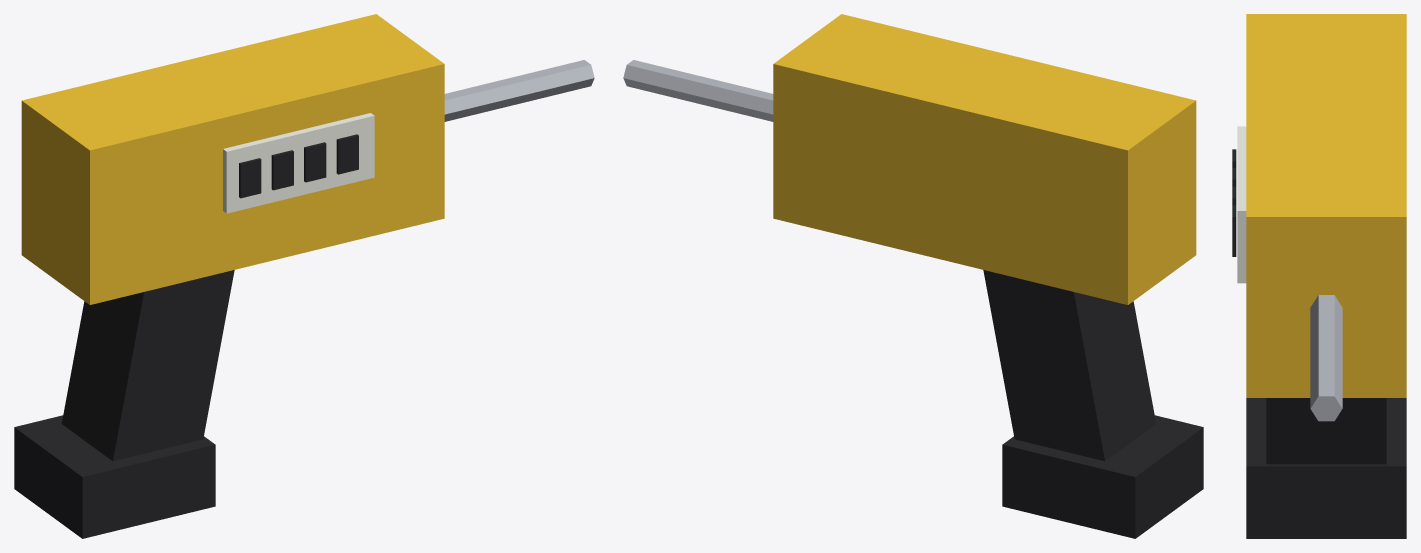
The model's file is garage_odometer_drill.glb.
3 views of the same model, side by side, from view 1: azimuth 30°, elevation 25°; view 2: azimuth 150°, elevation 25°; view 3: azimuth 270°, elevation 25° (orthographic). The views are drawn at different scales.
Visible parts, largest first — view 1: body_drill_yellow, grip_flash_black, battery_flash_black, counter_counter_white, bit_tool_chrome, digits_flash_black; view 2: body_drill_yellow, grip_flash_black, battery_flash_black, bit_tool_chrome; view 3: body_drill_yellow, battery_flash_black, grip_flash_black, bit_tool_chrome, counter_counter_white, digits_flash_black.
Part boxes in pixels (x1,y1,x2,y2): body_drill_yellow: [21, 14, 444, 304]; grip_flash_black: [61, 270, 234, 461]; battery_flash_black: [14, 415, 215, 538]; counter_counter_white: [223, 113, 374, 213]; bit_tool_chrome: [444, 60, 594, 121]; digits_flash_black: [239, 134, 358, 198]; body_drill_yellow: [773, 14, 1196, 304]; grip_flash_black: [983, 270, 1156, 461]; battery_flash_black: [1002, 415, 1203, 538]; bit_tool_chrome: [623, 60, 773, 121]; body_drill_yellow: [1246, 14, 1406, 397]; battery_flash_black: [1246, 398, 1406, 538]; grip_flash_black: [1266, 398, 1386, 464]; bit_tool_chrome: [1310, 295, 1342, 421]; counter_counter_white: [1237, 126, 1246, 283]; digits_flash_black: [1232, 149, 1236, 256].
Size of the model in its own units: 0.365 by 0.2544 by 0.087.
